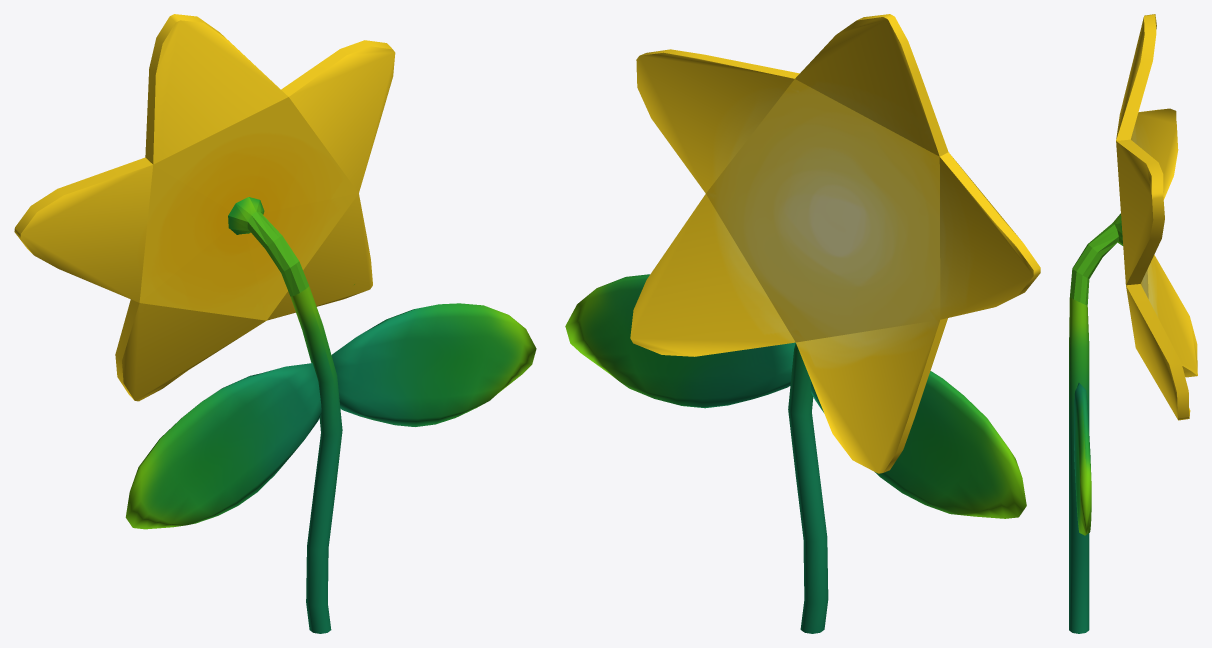
The model's file is HappinessCropFinal.FBX.
3 views of the same model, side by side, from view 1: azimuth 30°, elevation 25°; view 2: azimuth 150°, elevation 25°; view 3: azimuth 270°, elevation 25° (orthographic). The views are drawn at different scales.
Parts seen in each view (by area): view 1: blüte; view 2: blüte; view 3: blüte.
Part boxes in pixels (x1,y1,x2,y2): blüte: (14, 14, 536, 633); blüte: (565, 14, 1040, 633); blüte: (1069, 14, 1197, 633).
Size of the model in its own units: 0.743 by 0.9157 by 0.1886.
